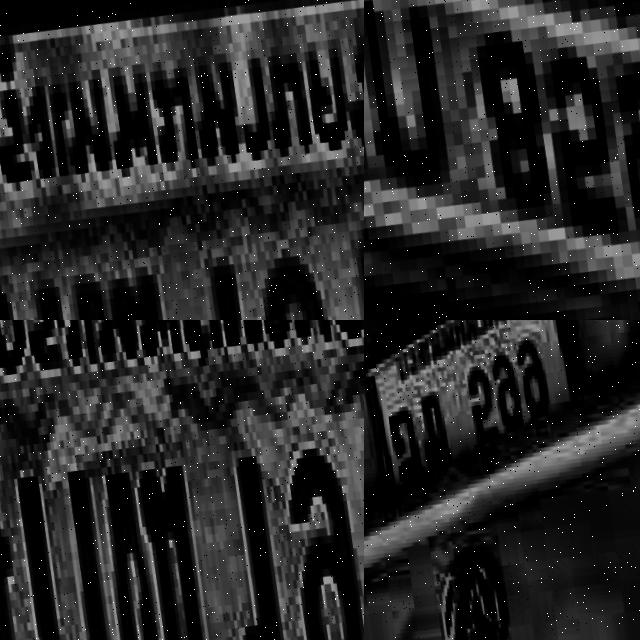license-plate: (0, 0, 364, 320), (0, 320, 364, 640), (364, 0, 640, 320), (364, 320, 606, 523)
